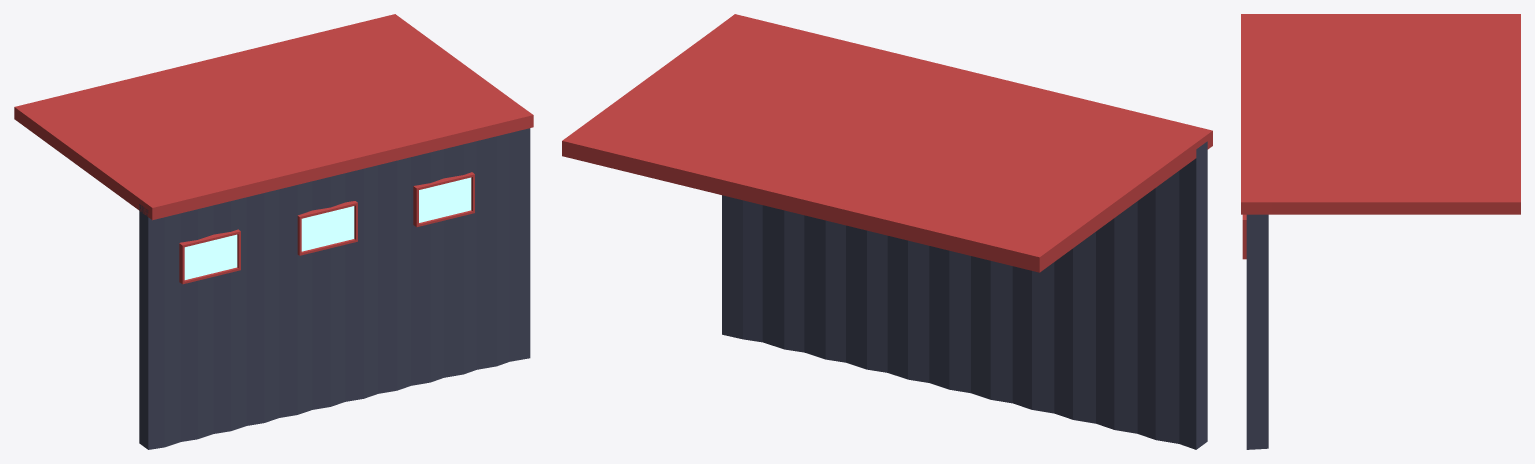
The model's file is large_wall_extended_right.fbx.
The picture shows the model from 3 angles, left to right: view 1: azimuth 30°, elevation 25°; view 2: azimuth 150°, elevation 25°; view 3: azimuth 270°, elevation 25°; orthographic projection. The views are drawn at different scales.
Visible parts, largest first — view 1: WarehouseBigWall.004; view 2: WarehouseBigWall.004; view 3: WarehouseBigWall.004.
Boxes of the visible parts, x1,y1,x2,y2 form: WarehouseBigWall.004: (14,14,533,449); WarehouseBigWall.004: (562,14,1212,449); WarehouseBigWall.004: (1241,14,1520,449).
Size of the model in its own units: 326 by 200 by 204.
